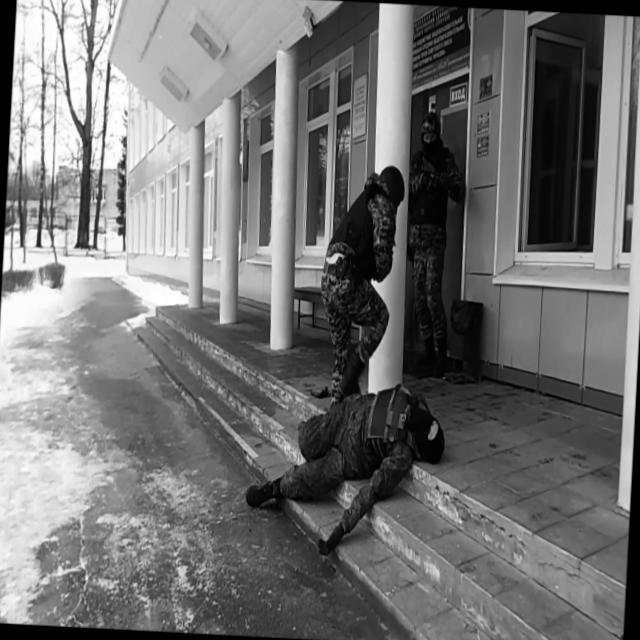gun: (414, 150, 451, 198), (344, 250, 362, 292)
person: (242, 374, 449, 564)
person with a gun: (314, 160, 406, 412), (398, 108, 471, 382)
